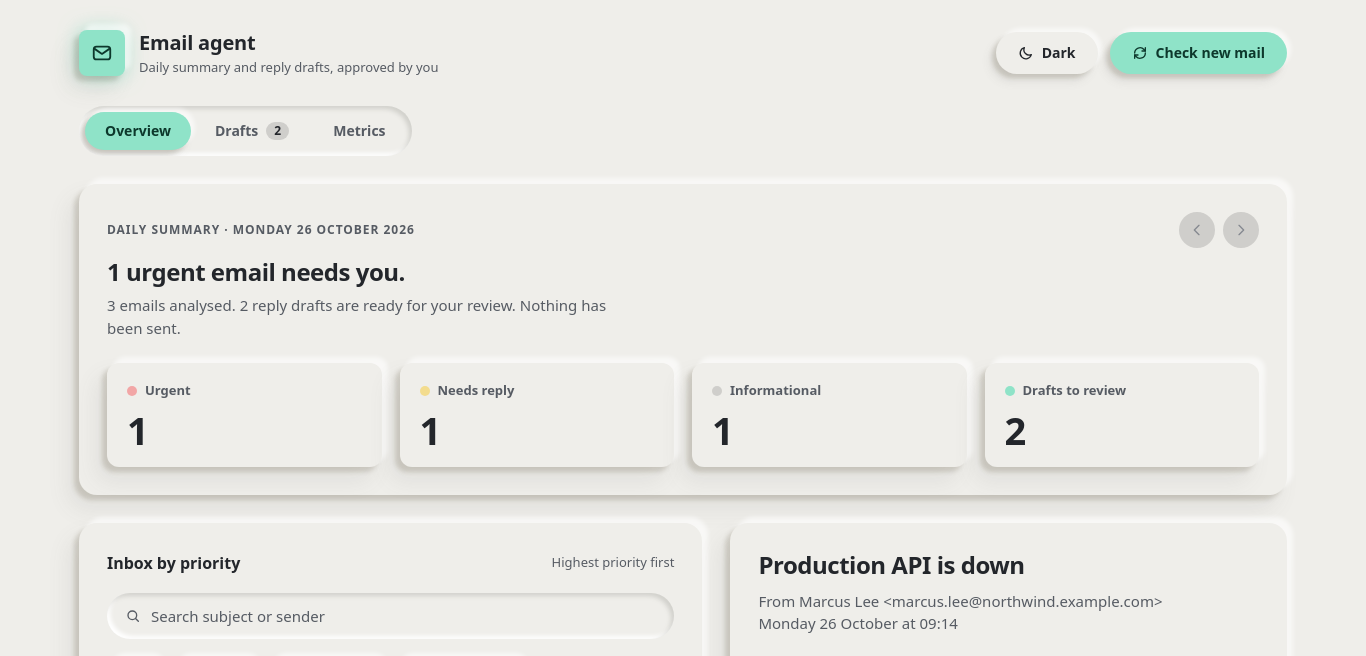
it: App › explains why a run was refused while another one is in progress
Step 1. Click the button "Check new mail" → {"x": 1198, "y": 53}, box 1110,32 -> 1287,74
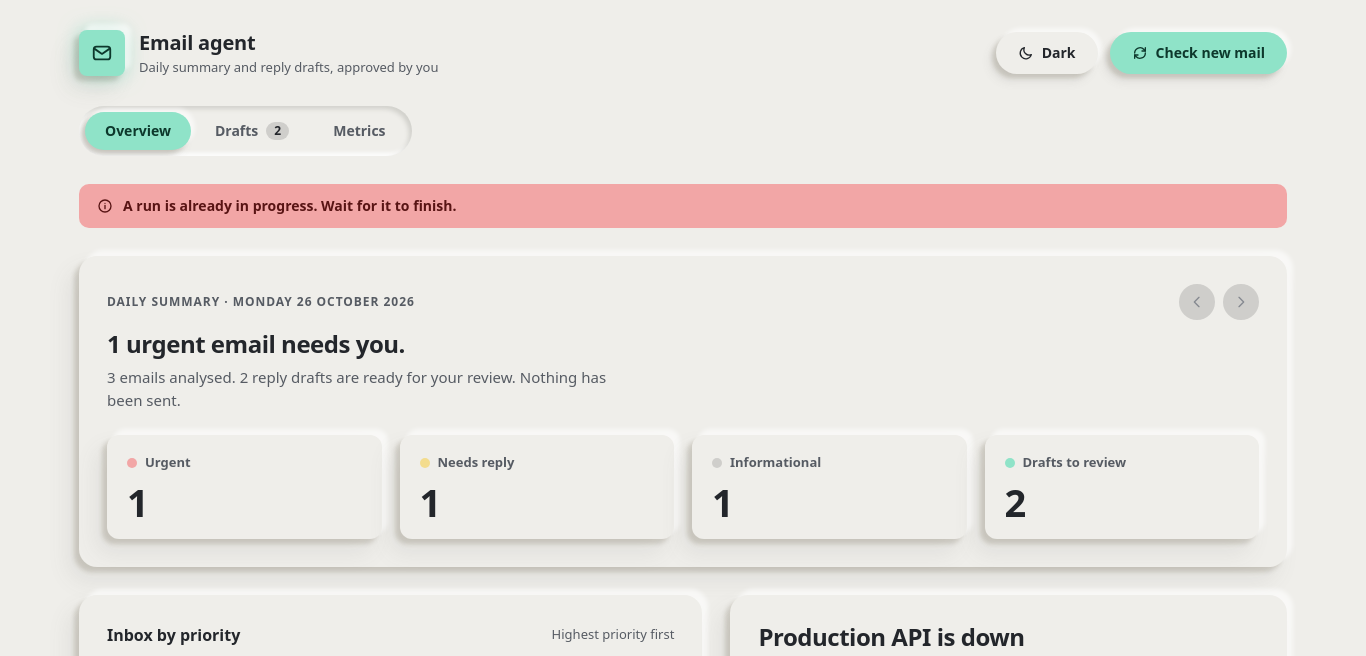
Expected: the text "A run is already in progress. Wait for it to finish." is shown, 79,184 -> 1287,228
